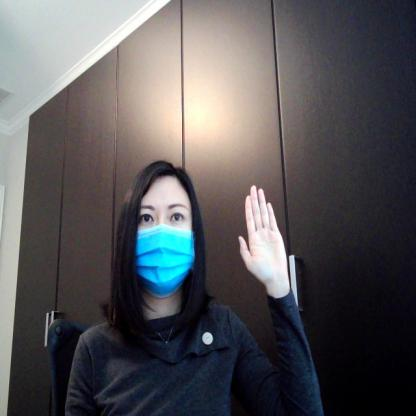hello: (235, 181, 291, 283)
